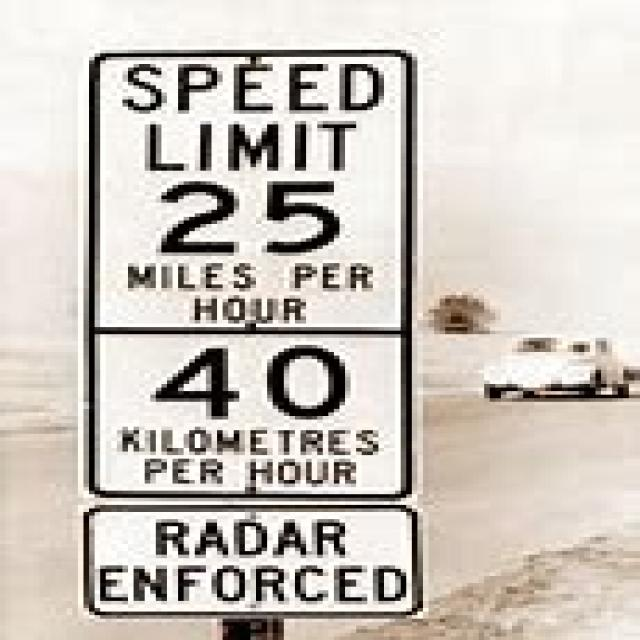speedLimit25: (86, 50, 409, 331)
